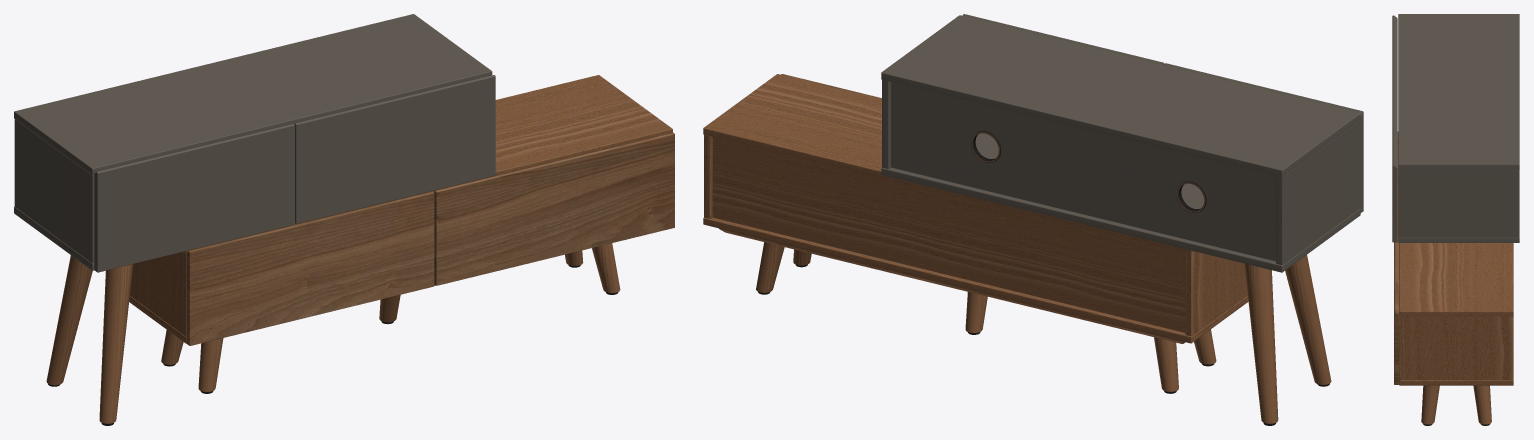
File: abo-B072ZNBWM7.glb
3 views of the same model, side by side, from view 1: azimuth 30°, elevation 25°; view 2: azimuth 150°, elevation 25°; view 3: azimuth 270°, elevation 25° (orthographic). The views are drawn at different scales.
Bounding box in the file's own units: 1.34 × 0.591 × 0.329.
1 material, 1 textured.
